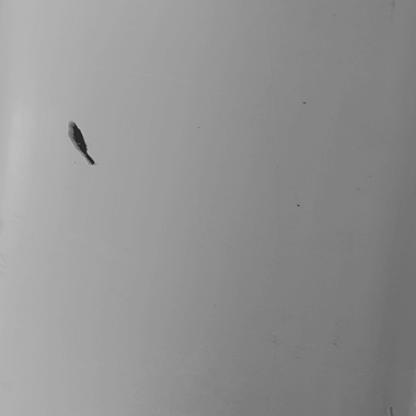kongdong: (66, 118, 98, 168)
